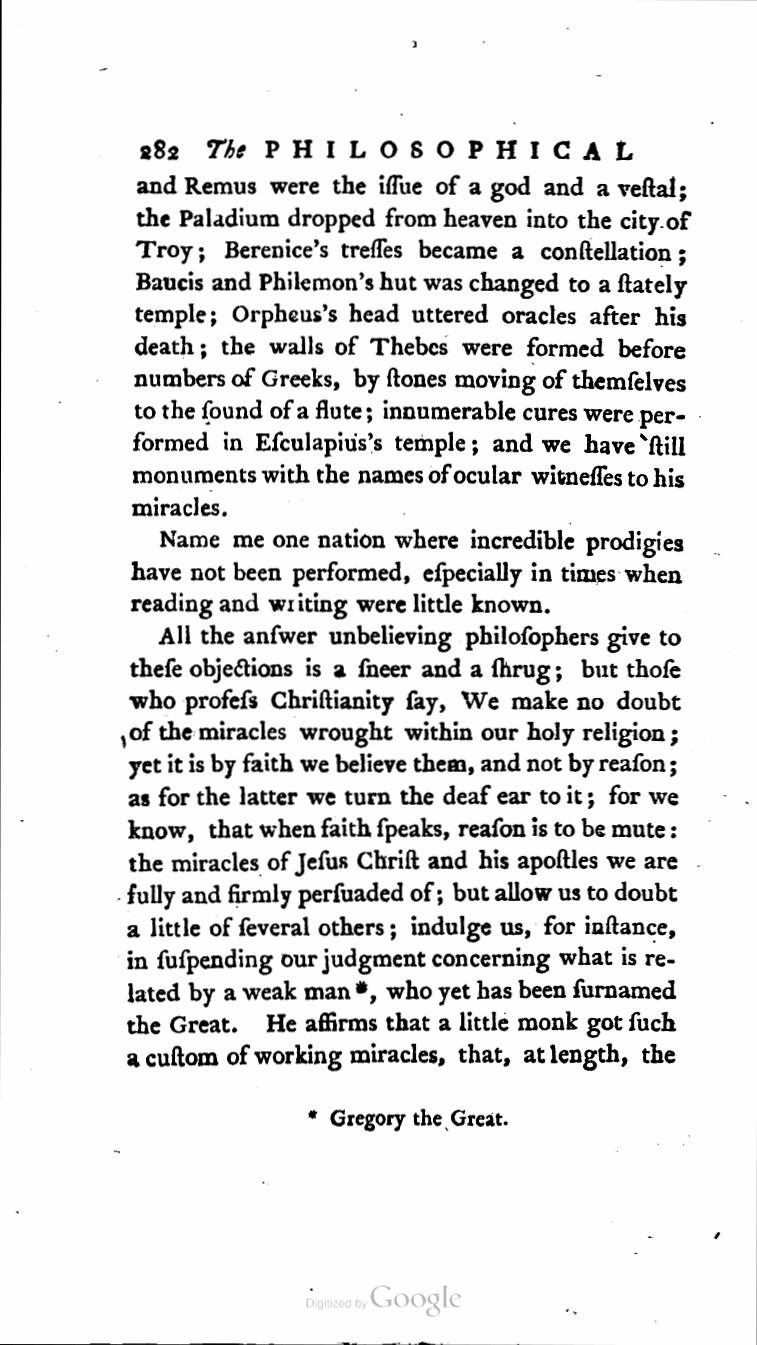bottom_p: (128, 171, 694, 518)
footnotes: (305, 1106, 514, 1134)
full_p: (126, 526, 687, 621)
header: (205, 136, 637, 166)
page_num: (133, 136, 182, 164)
top_p: (125, 622, 683, 1073)
